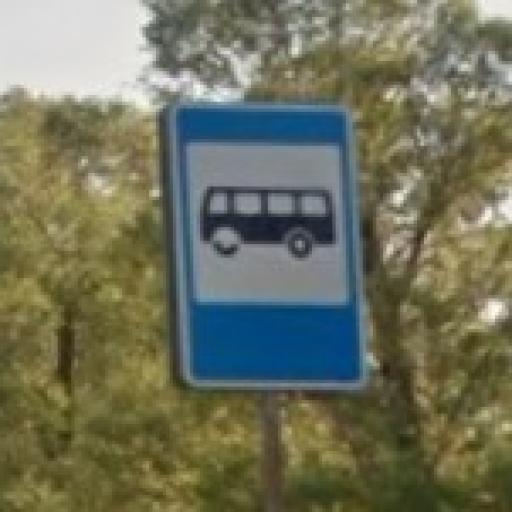traffic_sign: (171, 99, 371, 391)
